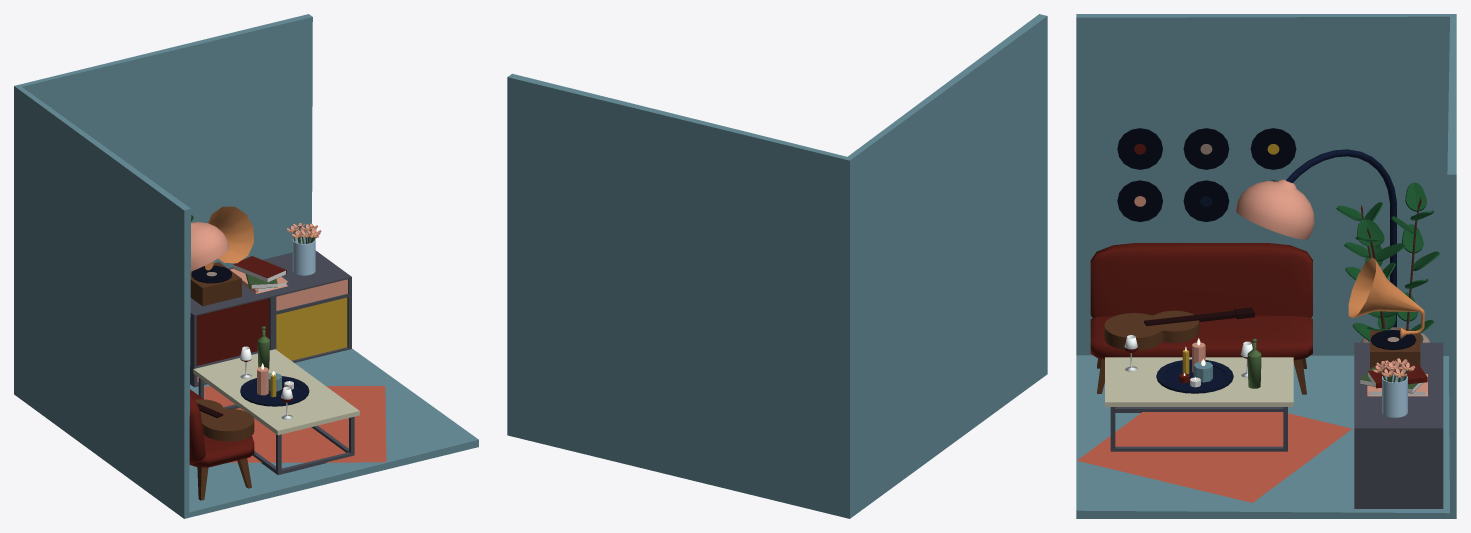
File: retro_music_lovers_date.glb
3 renders of one model, left to right at view 1: azimuth 30°, elevation 25°; view 2: azimuth 150°, elevation 25°; view 3: azimuth 270°, elevation 25°, orthographic. The views are drawn at different scales.
Visible parts, largest first — view 1: Cube, comode, table, Plane, music, sofa, guitar, candles, book1, lamp.001, vase; view 2: Cube; view 3: Cube, sofa, Plane, comode, table, music.002, lamp.001, pot, music, guitar, candles, vase (+2 smaller).
Boxes of the visible parts, x1=… form: Cube: x1=14, y1=14, x2=478, y2=518; comode: x1=190, y1=250, x2=351, y2=387; table: x1=193, y1=349, x2=359, y2=474; Plane: x1=204, y1=386, x2=386, y2=462; music: x1=190, y1=206, x2=253, y2=306; sofa: x1=189, y1=389, x2=254, y2=500; guitar: x1=195, y1=399, x2=254, y2=441; candles: x1=240, y1=363, x2=309, y2=406; book1: x1=230, y1=256, x2=287, y2=293; lamp.001: x1=190, y1=222, x2=229, y2=271; vase: x1=286, y1=223, x2=321, y2=275; Cube: x1=507, y1=14, x2=1047, y2=518; Cube: x1=1076, y1=14, x2=1456, y2=518; sofa: x1=1090, y1=243, x2=1312, y2=394; Plane: x1=1077, y1=412, x2=1351, y2=502; comode: x1=1354, y1=342, x2=1443, y2=508; table: x1=1105, y1=357, x2=1293, y2=451; music.002: x1=1117, y1=128, x2=1296, y2=221; lamp.001: x1=1236, y1=149, x2=1396, y2=327; pot: x1=1336, y1=182, x2=1439, y2=342; music: x1=1348, y1=257, x2=1424, y2=369; guitar: x1=1104, y1=307, x2=1254, y2=350; candles: x1=1156, y1=338, x2=1233, y2=393; vase: x1=1373, y1=358, x2=1415, y2=417.
Bounding box in the file's own units: 100 × 100 × 100.
